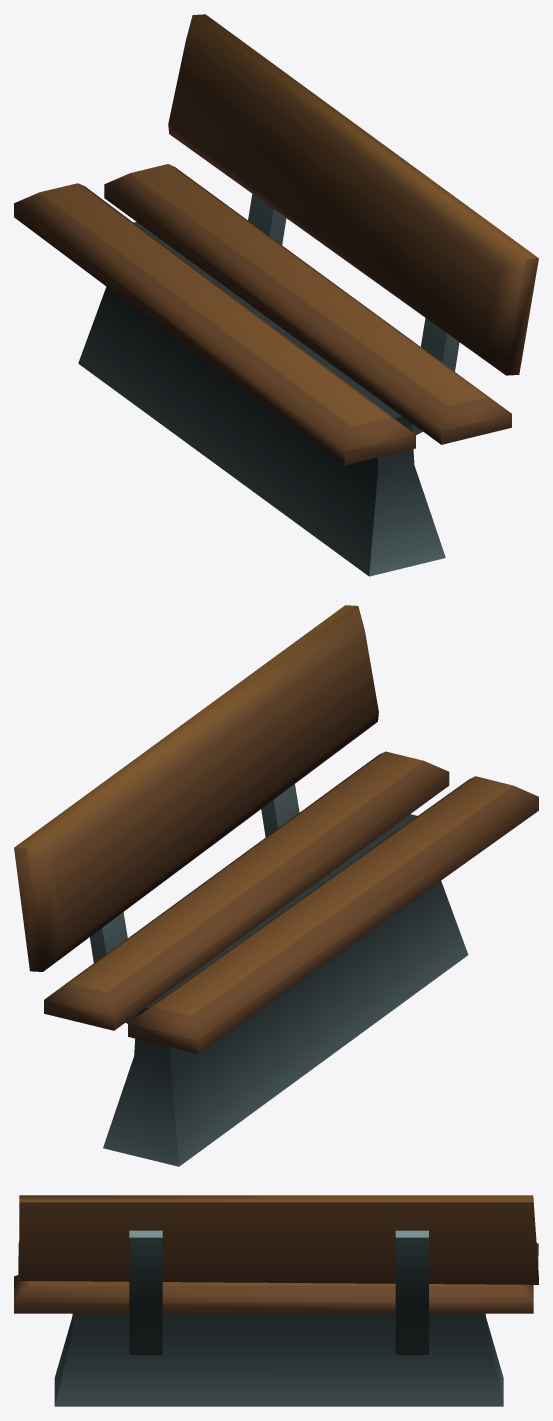
The model's file is Bench_1A.fbx.
3 views of the same model, one above another, from view 1: azimuth 30°, elevation 25°; view 2: azimuth 150°, elevation 25°; view 3: azimuth 270°, elevation 25° (orthographic). The views are drawn at different scales.
Visible parts, largest first — view 1: Bench_1A; view 2: Bench_1A; view 3: Bench_1A.
Boxes of the visible parts, x1,y1,x2,y2 form: Bench_1A: (14,14,538,576); Bench_1A: (14,605,538,1166); Bench_1A: (14,1195,538,1406).
Size of the model in its own units: 28.7 by 41.11 by 84.08.
